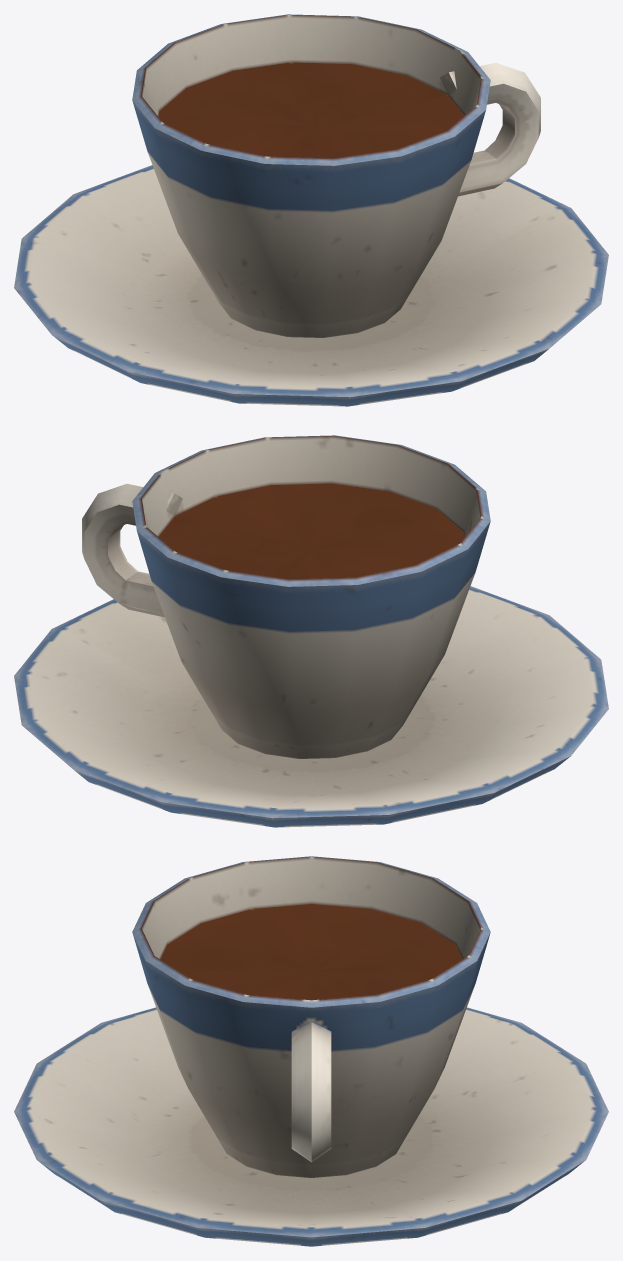
Rendered from Teacup_01.glb.
3 views of the same model, one above another, from view 1: azimuth 30°, elevation 25°; view 2: azimuth 150°, elevation 25°; view 3: azimuth 270°, elevation 25° (orthographic).
Parts seen in each view (by area): view 1: Teacup_01; view 2: Teacup_01; view 3: Teacup_01.
Part boxes in pixels (box(x1,y1,x2,y2)): Teacup_01: box(14, 14, 608, 406); Teacup_01: box(14, 435, 608, 827); Teacup_01: box(14, 856, 608, 1246).
Size of the model in its own units: 0.156 by 0.07 by 0.156.
1 material, 1 textured.
